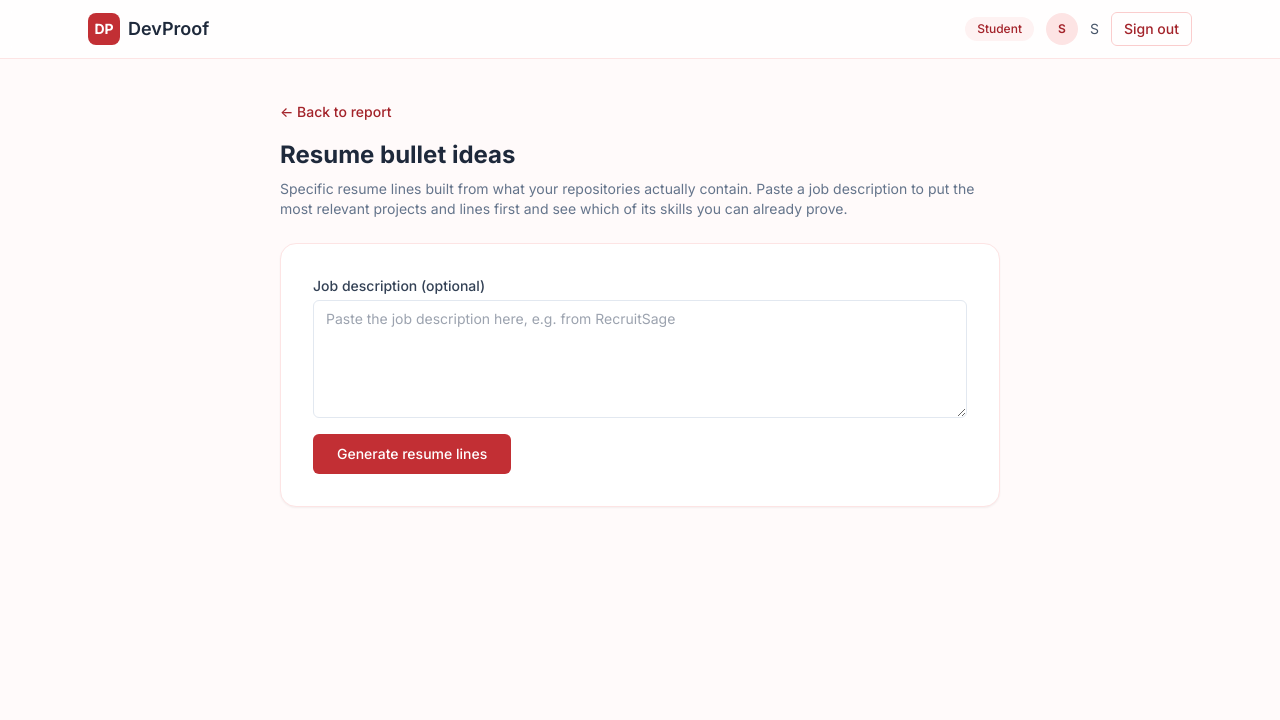
Scenario: ResumeBullets page › sends the job description and shows the job match and project lines
Type "Backend intern: Python, React, PostgreSQL" into the text box labelled "Job description (optional)" at (640,359), box [313, 300, 967, 418]
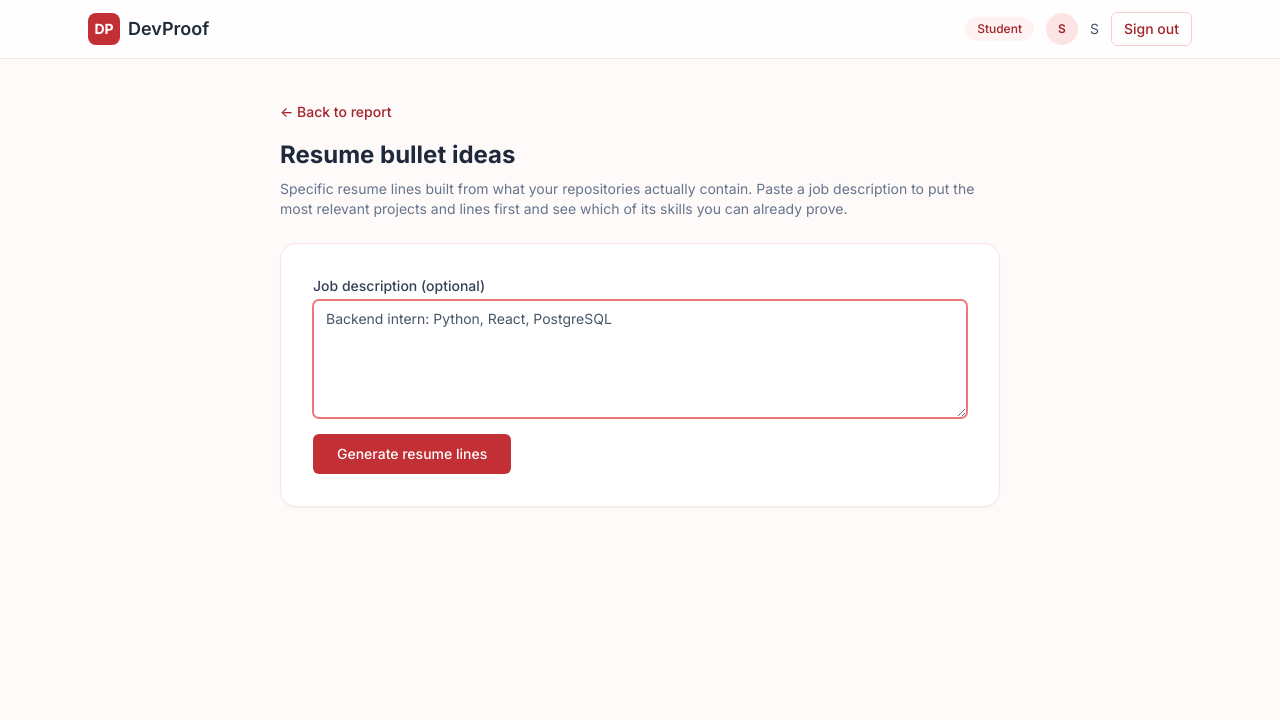
Click the button "Generate resume lines" at (412,454), box [313, 434, 511, 474]
(page scrolled)
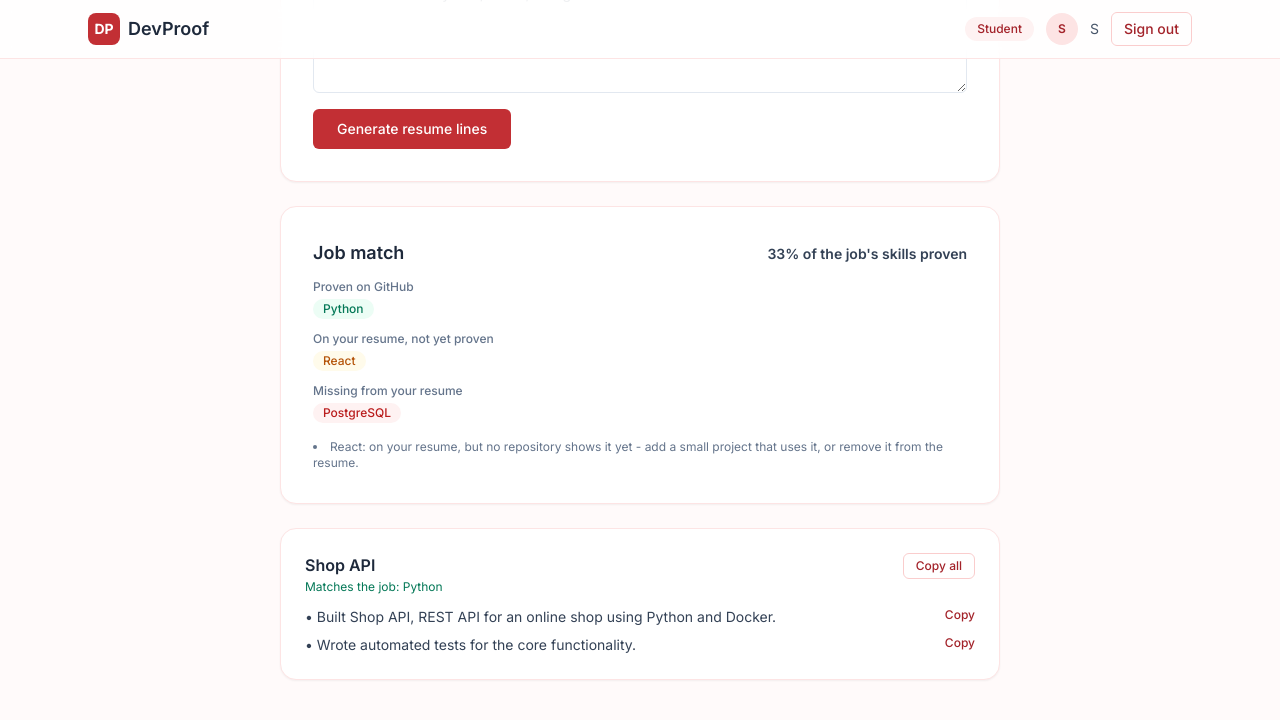
Expected: the text "33% of the job's skills proven" is shown, [767, 244, 967, 264]
Expected: the text "Proven on GitHub" is shown, [313, 279, 414, 294]
Expected: the text "Missing from your resume" is shown, [313, 383, 463, 398]
